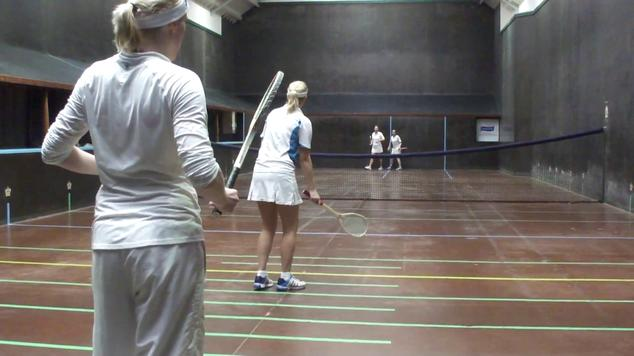stay: (245, 75, 314, 294), (369, 119, 383, 179), (387, 122, 401, 177)
